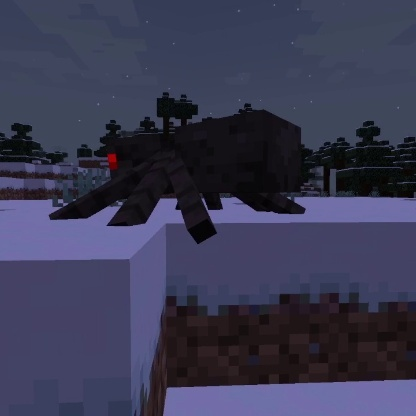spider: (46, 107, 310, 248)
